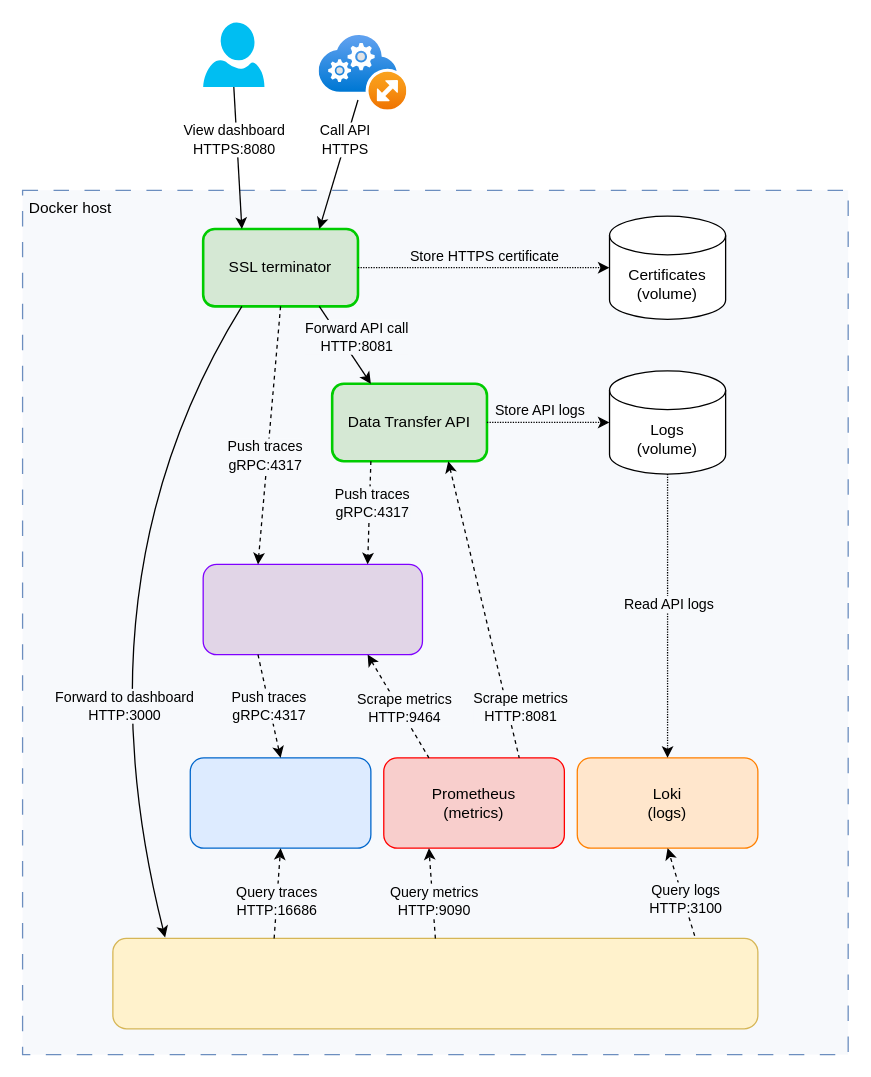
Some shapes in this 871 by 1077 pixel diagram are drawn without their labels. The centre of each missing label's shape, as x and y in pixels:
"Grafana (dashboards)" belongs at (435,983).
"Jaeger (traces)" belongs at (280,802).
"OpenTelemetry collector" belongs at (312,609).
